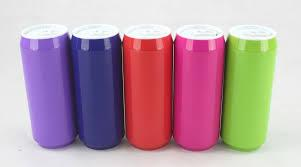Aluminum can: (160, 13, 229, 152), (220, 18, 285, 149), (13, 21, 76, 152), (73, 14, 128, 153), (120, 14, 172, 147)
